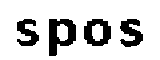o: (82, 17, 112, 48)
p: (46, 16, 78, 60)
s: (12, 17, 43, 49), (118, 18, 144, 48)
